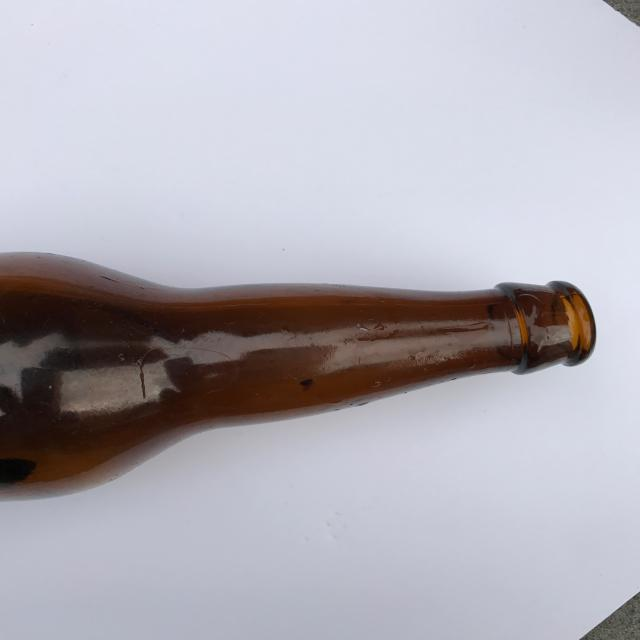glass: (0, 250, 597, 503)
